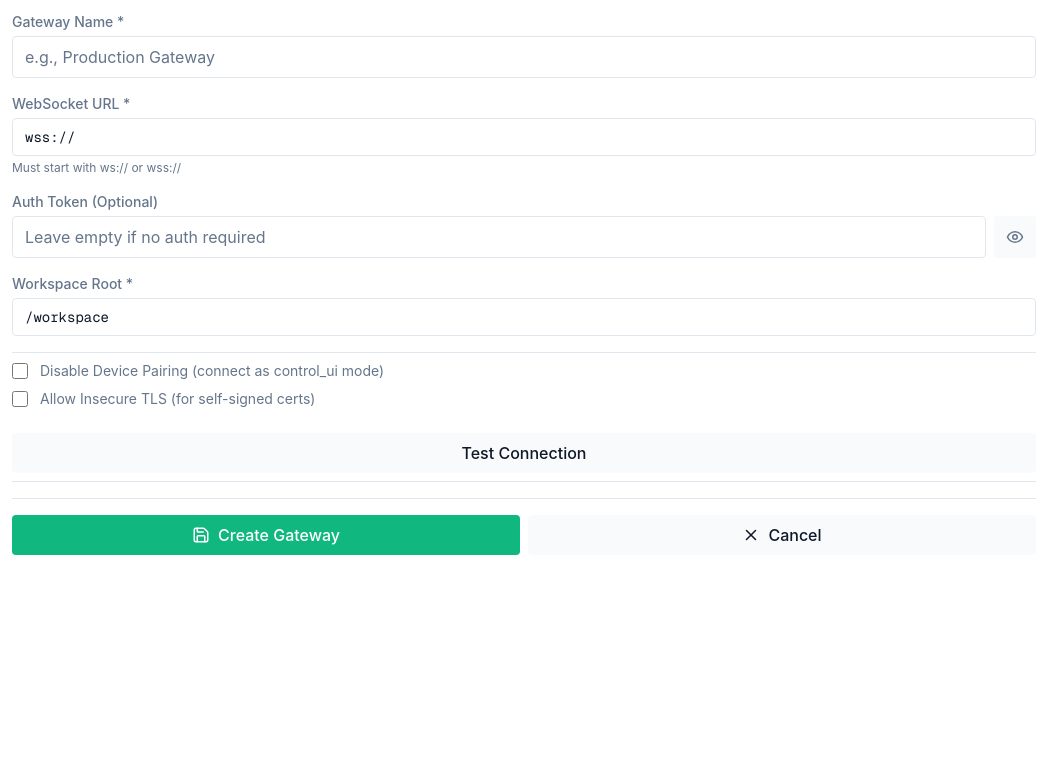
Scenario: GatewayForm Component › Test Connection Button › displays error badge when connection fails
This screenshot has width=1048, height=780.
Replace the text in the field with placeholder "wss://gateway.example.com:443" below "WebSocket URL *" with "wss://invalid.local". click: (524, 137)
box: top-left (12, 118), bottom-right (1036, 156)
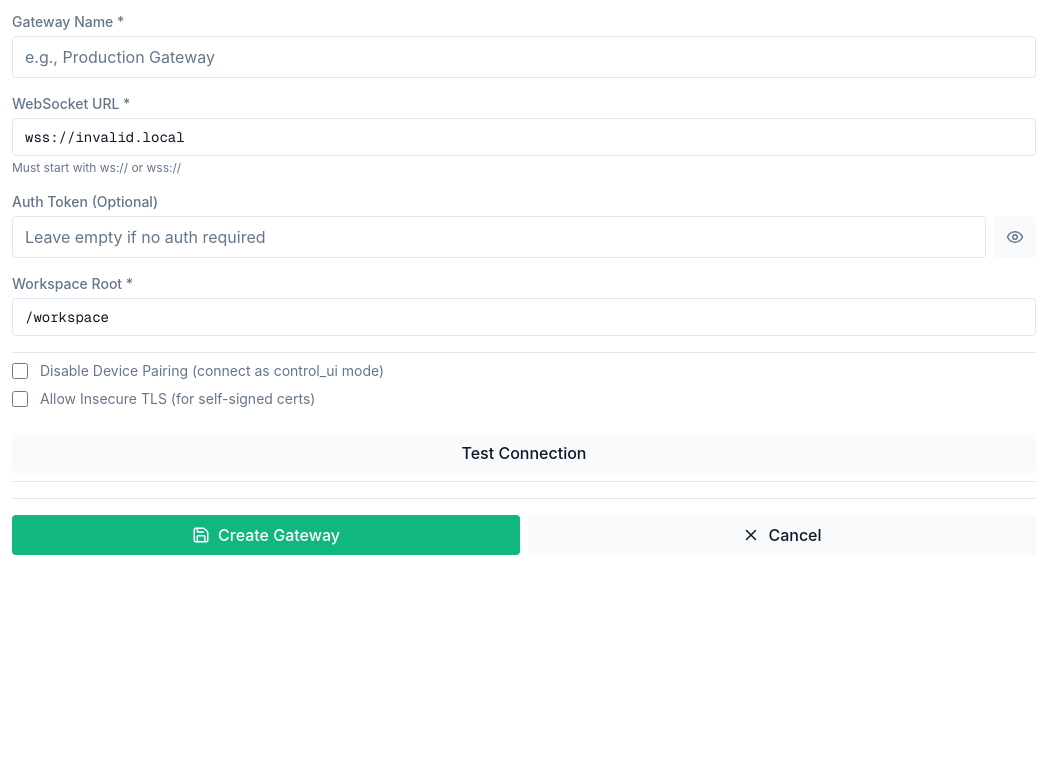
Click the button "Test Connection". click: (524, 453)
box: top-left (12, 433), bottom-right (1036, 473)
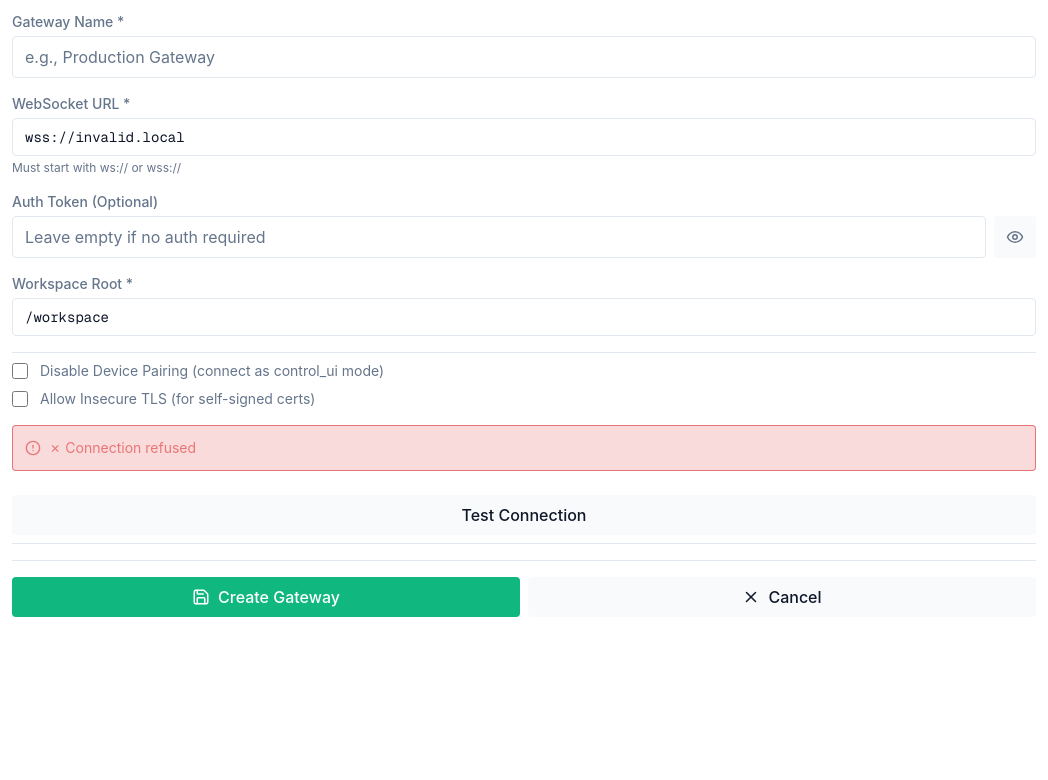
Now the text "✗ Connection refused" is shown, box top-left (49, 438), bottom-right (196, 458)
